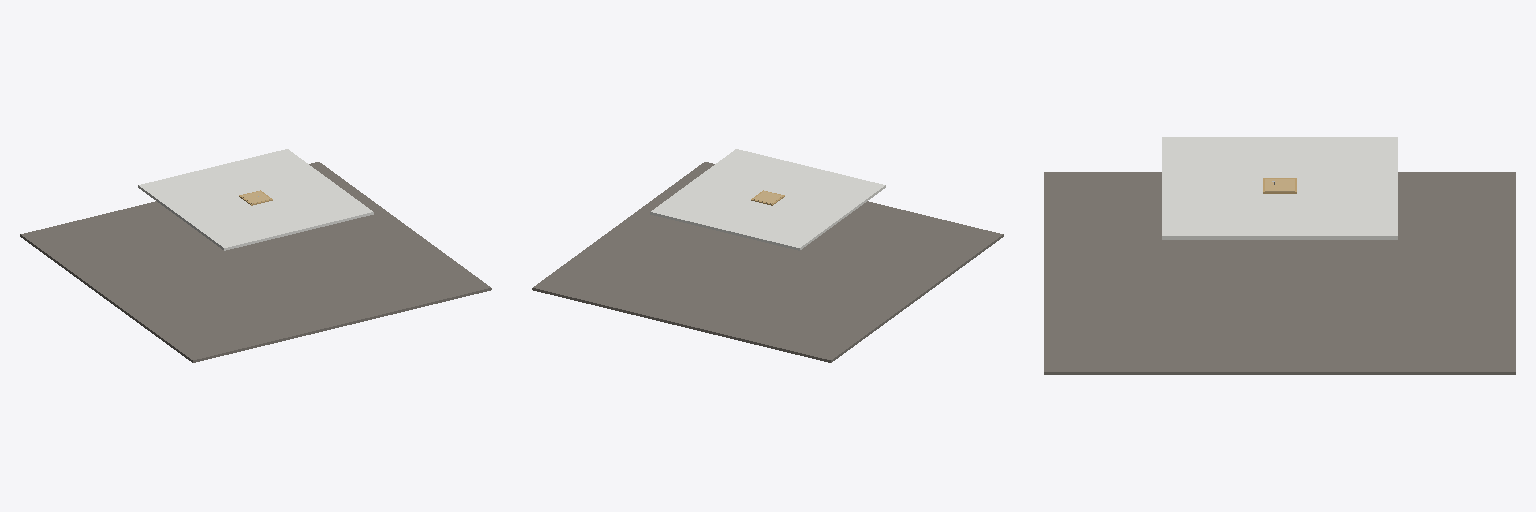
URDF robot description (db0834_hatch_ceiling_minimal):
<?xml version="1.0" ?>
<robot xmlns:doorbench="https://github.com/adamraudonis/DoorBench/schema/urdf-ext" name="db0834_hatch_ceiling_minimal">
  <link name="world_env">
    <visual name="floor_vis">
      <origin xyz="0 0 -0.05" rpy="0 0 0"/>
      <geometry>
        <box size="12 12 0.1"/>
      </geometry>
      <material name="mat_floor"/>
    </visual>
    <collision name="floor_col">
      <origin xyz="0 0 -0.05" rpy="0 0 0"/>
      <geometry>
        <box size="12 12 0.1"/>
      </geometry>
    </collision>
    <visual name="ceil_a_vis">
      <origin xyz="-1.6925 0 2.35" rpy="0 0 0"/>
      <geometry>
        <box size="2.615 6 0.1"/>
      </geometry>
      <material name="mat_ceiling"/>
    </visual>
    <collision name="ceil_a_col">
      <origin xyz="-1.6925 0 2.35" rpy="0 0 0"/>
      <geometry>
        <box size="2.615 6 0.1"/>
      </geometry>
    </collision>
    <visual name="ceil_b_vis">
      <origin xyz="1.6925 0 2.35" rpy="0 0 0"/>
      <geometry>
        <box size="2.615 6 0.1"/>
      </geometry>
      <material name="mat_ceiling"/>
    </visual>
    <collision name="ceil_b_col">
      <origin xyz="1.6925 0 2.35" rpy="0 0 0"/>
      <geometry>
        <box size="2.615 6 0.1"/>
      </geometry>
    </collision>
    <visual name="ceil_c_vis">
      <origin xyz="0 -1.6925 2.35" rpy="0 0 0"/>
      <geometry>
        <box size="0.77 2.615 0.1"/>
      </geometry>
      <material name="mat_ceiling"/>
    </visual>
    <collision name="ceil_c_col">
      <origin xyz="0 -1.6925 2.35" rpy="0 0 0"/>
      <geometry>
        <box size="0.77 2.615 0.1"/>
      </geometry>
    </collision>
    <visual name="ceil_d_vis">
      <origin xyz="0 1.6925 2.35" rpy="0 0 0"/>
      <geometry>
        <box size="0.77 2.615 0.1"/>
      </geometry>
      <material name="mat_ceiling"/>
    </visual>
    <collision name="ceil_d_col">
      <origin xyz="0 1.6925 2.35" rpy="0 0 0"/>
      <geometry>
        <box size="0.77 2.615 0.1"/>
      </geometry>
    </collision>
    <visual name="curb_l_vis">
      <origin xyz="-0.41 0 2.42" rpy="0 0 0"/>
      <geometry>
        <box size="0.05 0.87 0.04"/>
      </geometry>
      <material name="mat_frame"/>
    </visual>
    <collision name="curb_l_col">
      <origin xyz="-0.41 0 2.42" rpy="0 0 0"/>
      <geometry>
        <box size="0.05 0.87 0.04"/>
      </geometry>
    </collision>
    <visual name="curb_r_vis">
      <origin xyz="0.41 0 2.42" rpy="0 0 0"/>
      <geometry>
        <box size="0.05 0.87 0.04"/>
      </geometry>
      <material name="mat_frame"/>
    </visual>
    <collision name="curb_r_col">
      <origin xyz="0.41 0 2.42" rpy="0 0 0"/>
      <geometry>
        <box size="0.05 0.87 0.04"/>
      </geometry>
    </collision>
    <visual name="curb_n_vis">
      <origin xyz="0 -0.41 2.42" rpy="0 0 0"/>
      <geometry>
        <box size="0.77 0.05 0.04"/>
      </geometry>
      <material name="mat_frame"/>
    </visual>
    <collision name="curb_n_col">
      <origin xyz="0 -0.41 2.42" rpy="0 0 0"/>
      <geometry>
        <box size="0.77 0.05 0.04"/>
      </geometry>
    </collision>
    <visual name="curb_f_vis">
      <origin xyz="0 0.41 2.42" rpy="0 0 0"/>
      <geometry>
        <box size="0.77 0.05 0.04"/>
      </geometry>
      <material name="mat_frame"/>
    </visual>
    <collision name="curb_f_col">
      <origin xyz="0 0.41 2.42" rpy="0 0 0"/>
      <geometry>
        <box size="0.77 0.05 0.04"/>
      </geometry>
    </collision>
  </link>
  <link name="hatch">
    <inertial>
      <origin xyz="0 -0.410327 0.002993" rpy="0 0 0"/>
      <mass value="6.197344"/>
      <inertia ixx="0.288716106" ixy="0" ixz="0" iyy="0.272444251" iyz="0.003070141" izz="0.556391202"/>
    </inertial>
    <visual name="hatch_slab_vis">
      <origin xyz="0 -0.395 0" rpy="0 0 0"/>
      <geometry>
        <box size="0.76 0.762 0.012"/>
      </geometry>
      <material name="mat_leaf"/>
    </visual>
    <collision name="hatch_slab_col">
      <origin xyz="0 -0.395 0" rpy="0 0 0"/>
      <geometry>
        <box size="0.76 0.762 0.012"/>
      </geometry>
    </collision>
    <visual name="hatch_pull_p_vis">
      <origin xyz="0 -0.5875 0.012" rpy="-1.570796 0 0"/>
      <geometry>
        <mesh filename="../../hardware/pull_1e5d69a91a.obj"/>
      </geometry>
      <material name="mat_op_stainless"/>
    </visual>
    <collision name="hatch_pull_col_p_col">
      <origin xyz="0 -0.5875 0.072" rpy="1.570796 0 0"/>
      <geometry>
        <cylinder radius="0.0095" length="0.16"/>
      </geometry>
    </collision>
  </link>
  <joint name="hatch_hinge" type="revolute">
    <origin xyz="0 0.395 2.44" rpy="0 0 0"/>
    <parent link="world_env"/>
    <child link="hatch"/>
    <axis xyz="-1 0 0"/>
    <limit lower="0" upper="1.396263" effort="2000" velocity="10"/>
    <dynamics damping="30.545792" friction="0.175033"/>
    <doorbench:spring stiffness="15.75" springref="-3.333333" note="tau = -stiffness*(q - springref); not native URDF"/>
  </joint>
  <material name="mat_ceiling">
    <color rgba="0.92 0.92 0.9 1"/>
  </material>
  <material name="mat_floor">
    <color rgba="0.55 0.53 0.5 1"/>
  </material>
  <material name="mat_frame">
    <color rgba="0.82 0.7 0.5 1"/>
  </material>
  <material name="mat_leaf">
    <color rgba="0.85 0.75 0.58 1"/>
  </material>
  <material name="mat_op_stainless">
    <color rgba="0.75 0.76 0.77 1"/>
  </material>
</robot>

--- Facts derived from the render (not from the file) ---
Views: 3 orthographic renders of the robot side by side, from view 1: azimuth 30°, elevation 25°; view 2: azimuth 150°, elevation 25°; view 3: azimuth 270°, elevation 25°.
Model db0834_hatch_ceiling_minimal with 2 links and 1 joints (1 revolute), rooted at world_env, posed all joints at 0.
Links seen in each view (by area): view 1: world_env; view 2: world_env; view 3: world_env.
Boxes of the visible links, x1,y1,x2,y2 form: world_env: [20, 149, 491, 362]; world_env: [532, 149, 1003, 362]; world_env: [1044, 137, 1515, 374].
Size in the robot's own frame: 12 by 12 by 2.65 metres.
Meshes: 1 distinct files referenced, 1 mesh visuals loaded (1 OBJ).
